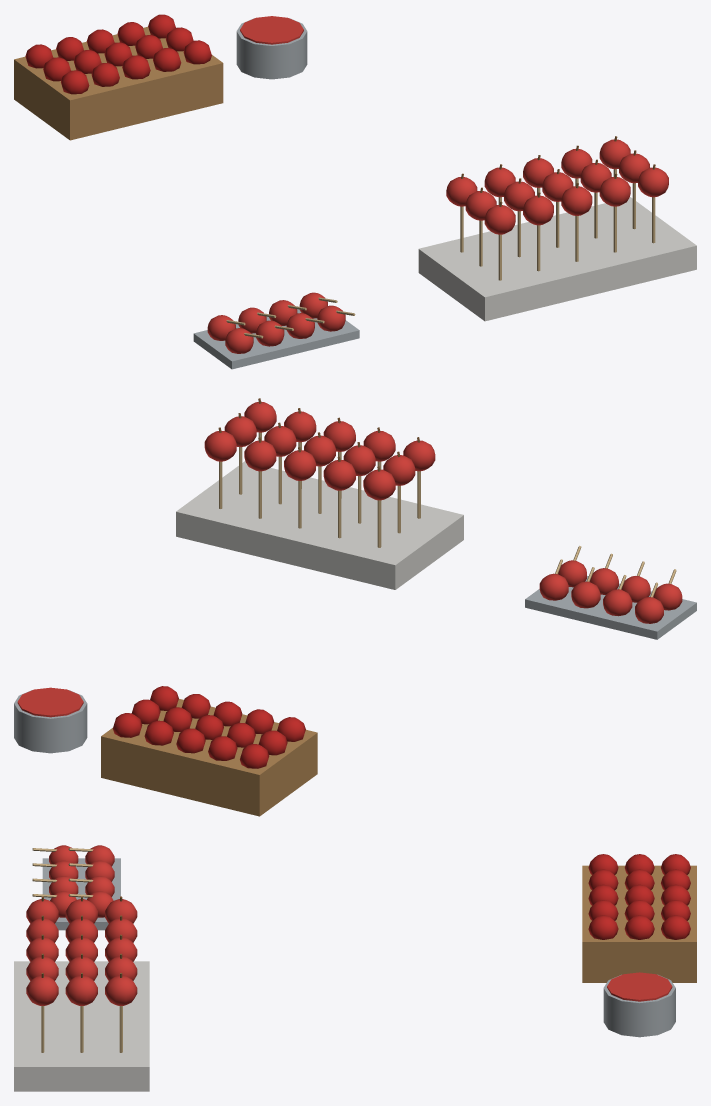
File: goods_ringoame.glb
3 renders of one model, top to bottom at view 1: azimuth 30°, elevation 25°; view 2: azimuth 150°, elevation 25°; view 3: azimuth 270°, elevation 25°, orthographic. The views are drawn at different scales.
Visible parts, largest first — view 1: goods_ringoame; view 2: goods_ringoame; view 3: goods_ringoame.
Part boxes in pixels (box(x1,y1,x2,y2)): goods_ringoame: box(14, 14, 696, 369); goods_ringoame: box(14, 398, 696, 816); goods_ringoame: box(14, 845, 696, 1091).
Bounding box in the file's own units: 1.77 × 0.3811 × 2.26.
